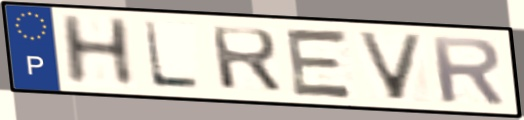E: (282, 26, 357, 101)
H: (55, 13, 139, 87)
L: (140, 19, 203, 92)
R: (426, 33, 508, 106), (207, 25, 286, 95)
V: (353, 29, 429, 103)
